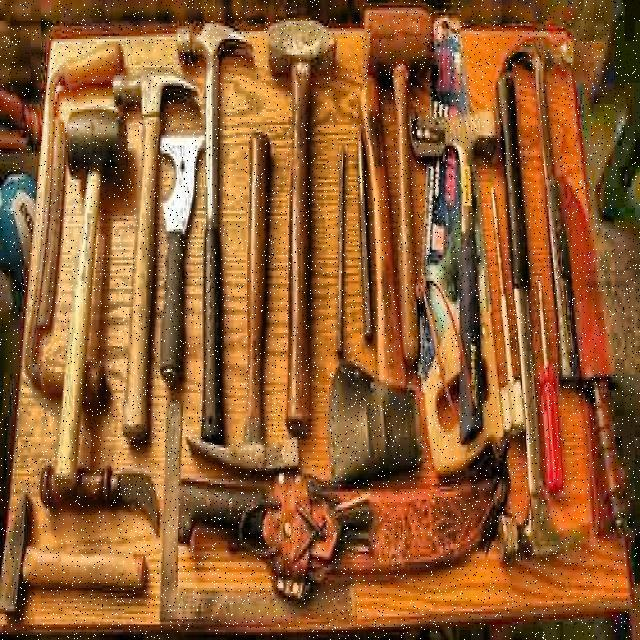hammer: (498, 63, 593, 567), (176, 17, 255, 436), (114, 68, 199, 438), (502, 32, 587, 390), (268, 19, 337, 436), (1, 493, 149, 621)
